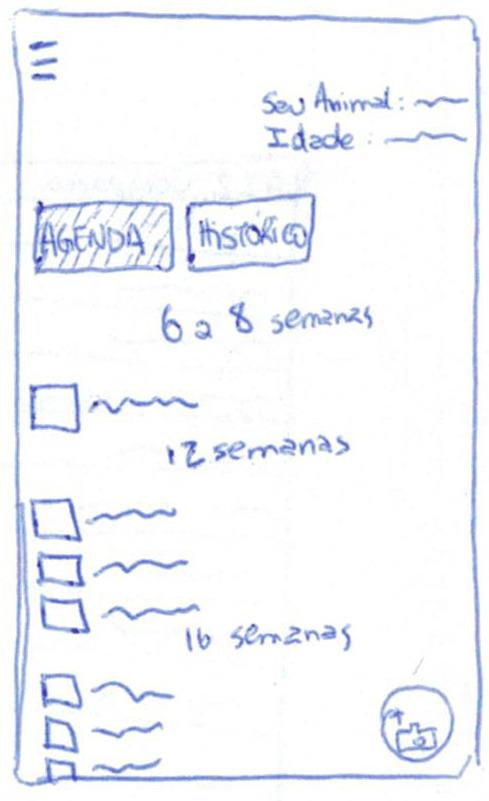Button: (33, 199, 175, 271), (186, 194, 316, 272), (27, 39, 59, 83)
CheckBox: (28, 383, 199, 433), (31, 499, 177, 542), (39, 595, 199, 633), (38, 551, 189, 588), (41, 673, 176, 710), (45, 717, 162, 753), (45, 757, 162, 781)
Label: (160, 300, 374, 344), (163, 433, 350, 471), (184, 621, 355, 654), (260, 82, 405, 118), (265, 122, 374, 152), (382, 131, 467, 146), (412, 94, 469, 110)
Screen: (8, 10, 481, 789)
